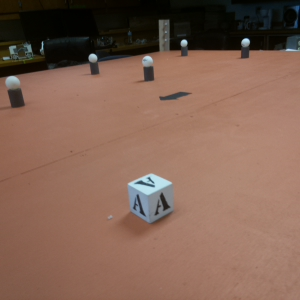blockA: (122, 165, 183, 224)
corner: (155, 17, 174, 55)
obstacle: (5, 76, 29, 110), (85, 50, 103, 78), (142, 54, 154, 83), (237, 38, 251, 58), (180, 39, 190, 57)
start: (158, 91, 194, 103)
